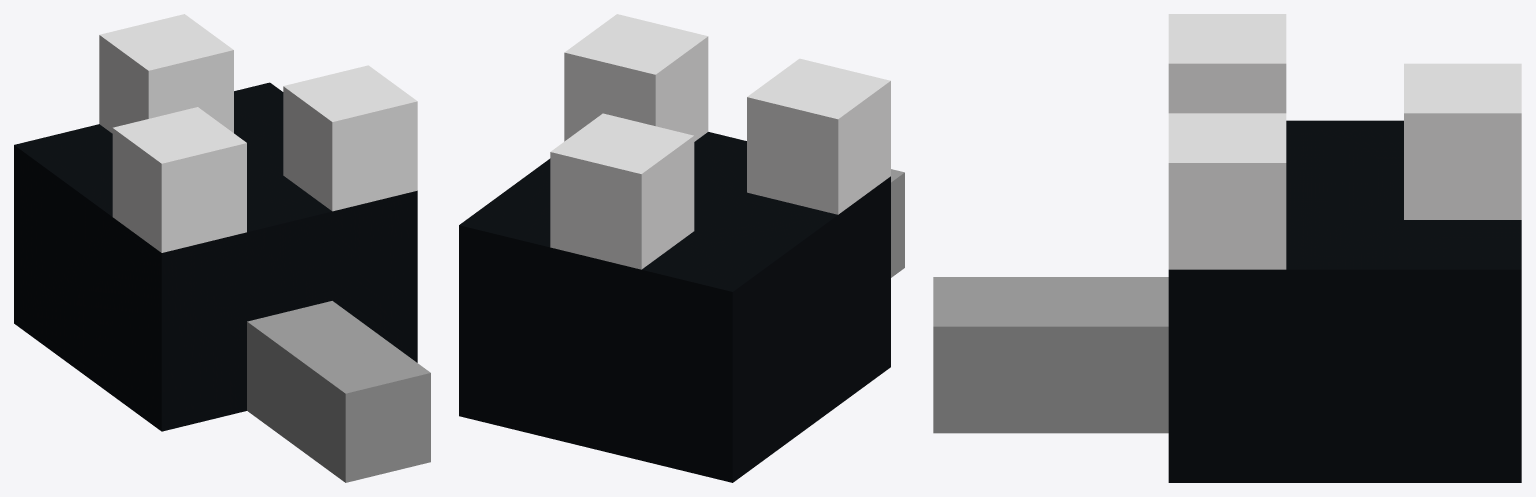
Rendered from Items-6.obj.
The picture shows the model from 3 angles, left to right: view 1: azimuth 30°, elevation 25°; view 2: azimuth 150°, elevation 25°; view 3: azimuth 270°, elevation 25°; orthographic projection. The views are drawn at different scales.
Bounding box in the file's own units: 0.3 × 0.3 × 0.5.
Materials: 1 (1 with a texture image).
